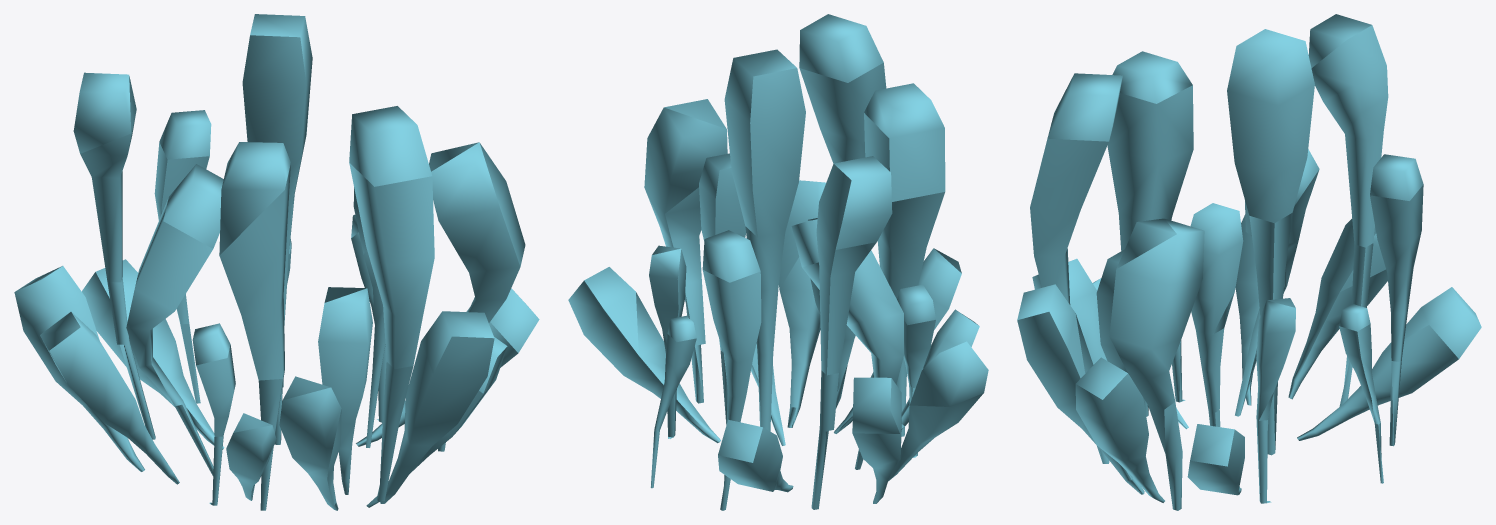
File: kelphite.glb
The picture shows the model from 3 angles, left to right: view 1: azimuth 30°, elevation 25°; view 2: azimuth 150°, elevation 25°; view 3: azimuth 270°, elevation 25°; orthographic projection. The views are drawn at different scales.
Visible parts, largest first — view 1: node_id67; view 2: node_id67; view 3: node_id67.
Part boxes in pixels (box(x1,y1,x2,y2)): node_id67: box(14, 14, 539, 510); node_id67: box(568, 14, 988, 510); node_id67: box(1017, 14, 1481, 510).
Bounding box in the file's own units: 2.78 × 2.6 × 2.48.
